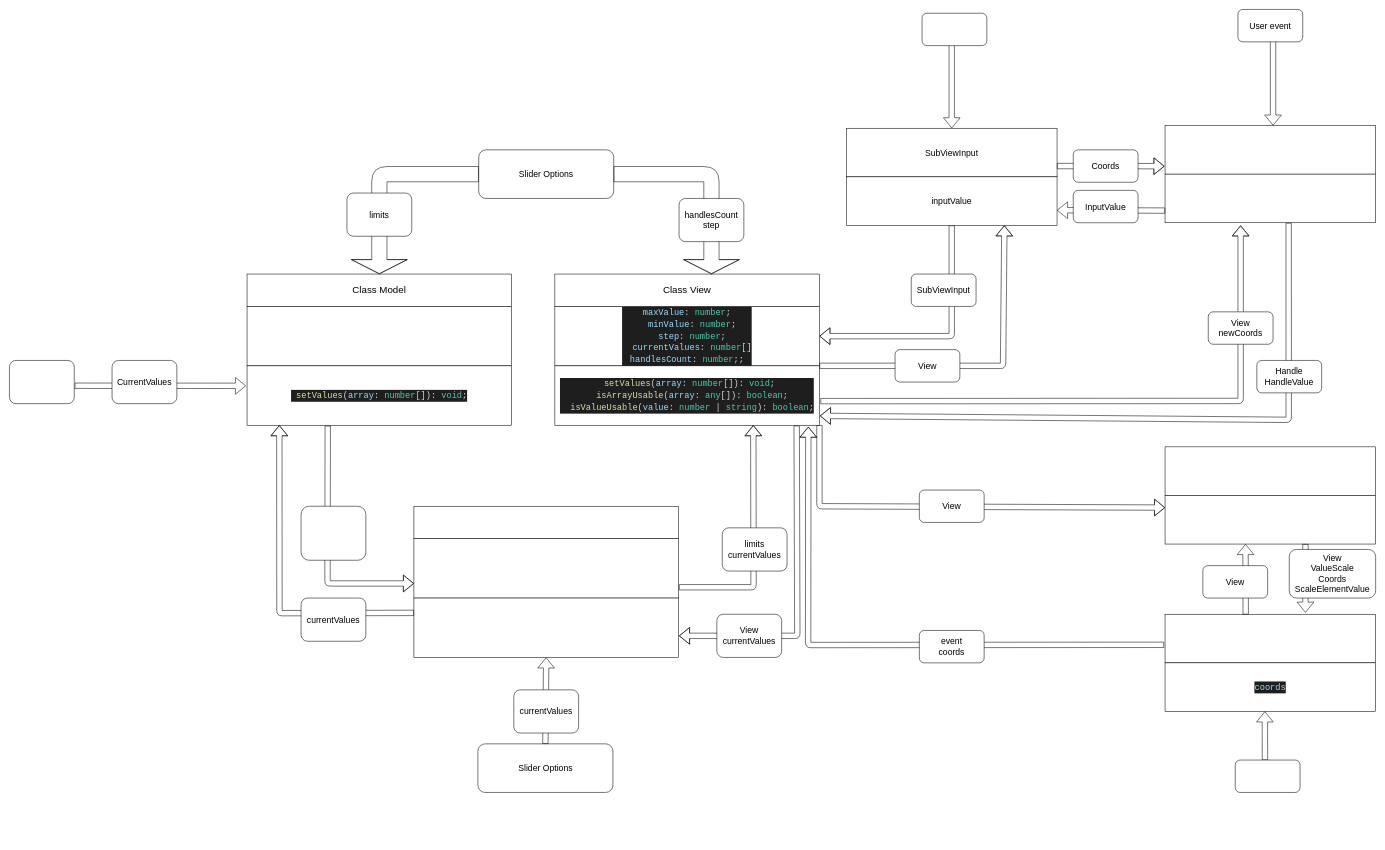
This 1385x850 diagram has some shape labels left out. The box of each missing label's shape, as (x1, y1, x2, y2) in pixels:
Class Controller: (413, 506, 679, 539)
Click event: (1235, 760, 1300, 792)
Handle: (1165, 125, 1376, 174)
handleIndex handleValue: (1165, 174, 1376, 223)
Input event: (922, 13, 987, 46)
JS Code: (9, 360, 74, 404)
limits : any [] currentValues : any []; observer : IEventObserver ;: (247, 306, 512, 366)
Model limits currentValues: (301, 506, 366, 560)
model view: (413, 538, 679, 598)
ValueScale: (1165, 446, 1376, 495)
ValueScaleElement: (1165, 614, 1376, 663)
